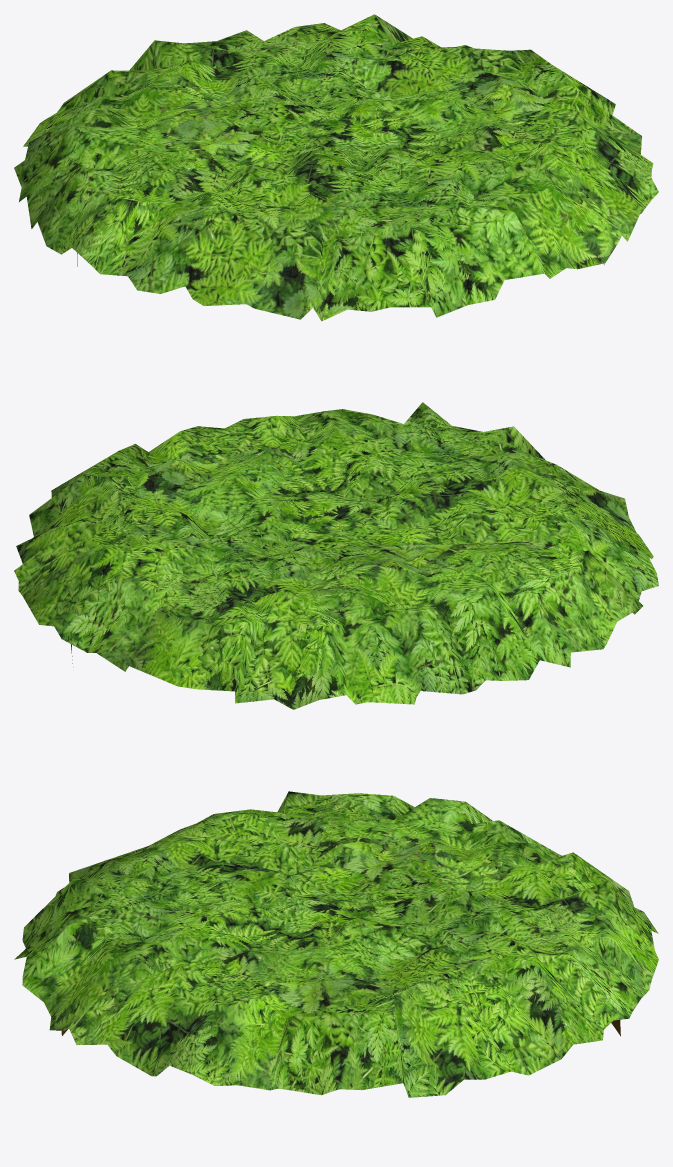
File: Greenery2.glb
3 renders of one model, top to bottom at view 1: azimuth 30°, elevation 25°; view 2: azimuth 150°, elevation 25°; view 3: azimuth 270°, elevation 25°, orthographic.
Visible parts, largest first — view 1: Grid; view 2: Grid; view 3: Grid.
Boxes of the visible parts, x1,y1,x2,y2 form: Grid: [14, 14, 658, 321]; Grid: [14, 402, 658, 709]; Grid: [14, 791, 658, 1097].
Size of the model in its own units: 1.39 by 0.3272 by 1.37.
Materials: 2 (1 with a texture image).
